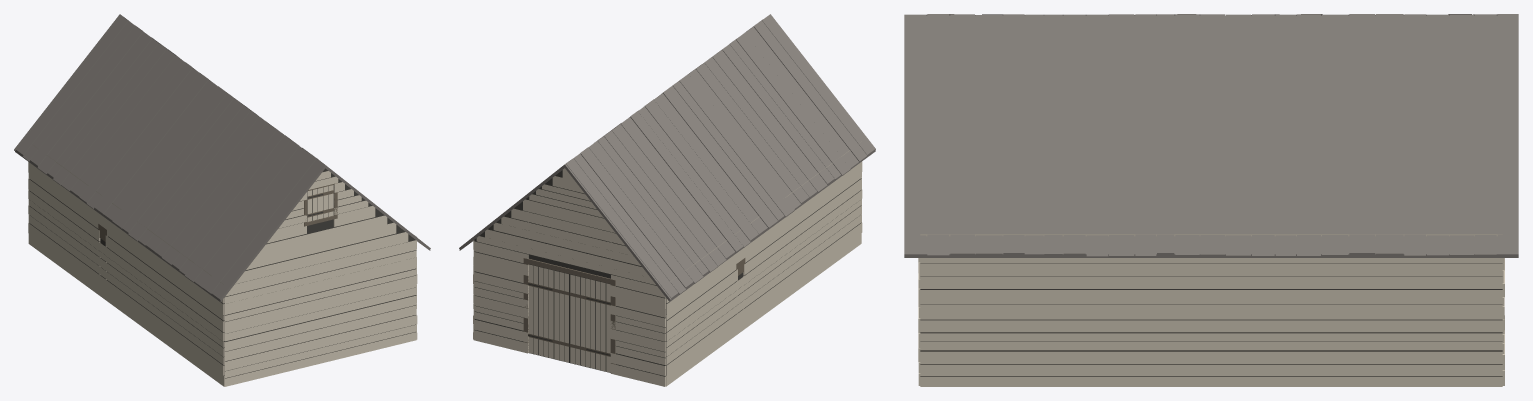
File: recon_1835_blk_randolph_dearborn_a2_08__inferred_1835.glb
3 views of the same model, side by side, from view 1: azimuth 30°, elevation 25°; view 2: azimuth 150°, elevation 25°; view 3: azimuth 270°, elevation 25° (orthographic). The views are drawn at different scales.
Parts seen in each view (by area): view 1: recon_1835_blk_randolph_dearborn_a2_08__inferred_1835; view 2: recon_1835_blk_randolph_dearborn_a2_08__inferred_1835; view 3: recon_1835_blk_randolph_dearborn_a2_08__inferred_1835.
Part boxes in pixels (<box>): recon_1835_blk_randolph_dearborn_a2_08__inferred_1835: <box>14,14,430,386</box>; recon_1835_blk_randolph_dearborn_a2_08__inferred_1835: <box>459,14,875,386</box>; recon_1835_blk_randolph_dearborn_a2_08__inferred_1835: <box>904,14,1518,386</box>.
Size of the model in its own units: 7.46 by 6.79 by 12.5.
